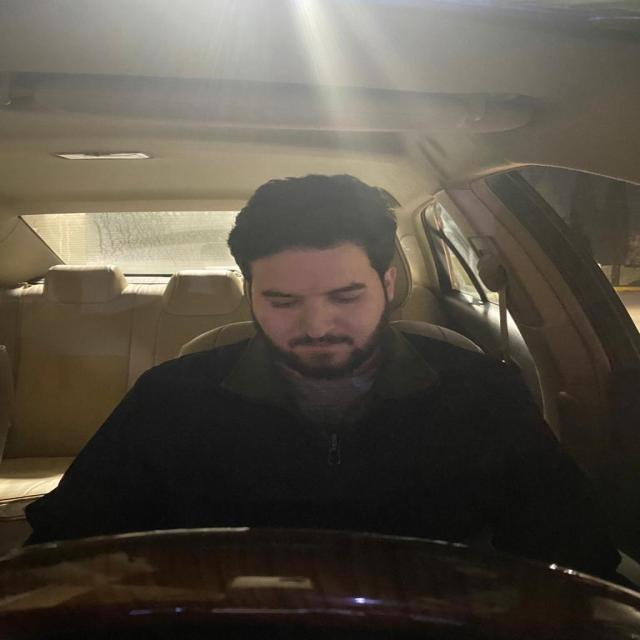drowsy: (225, 169, 417, 383)
